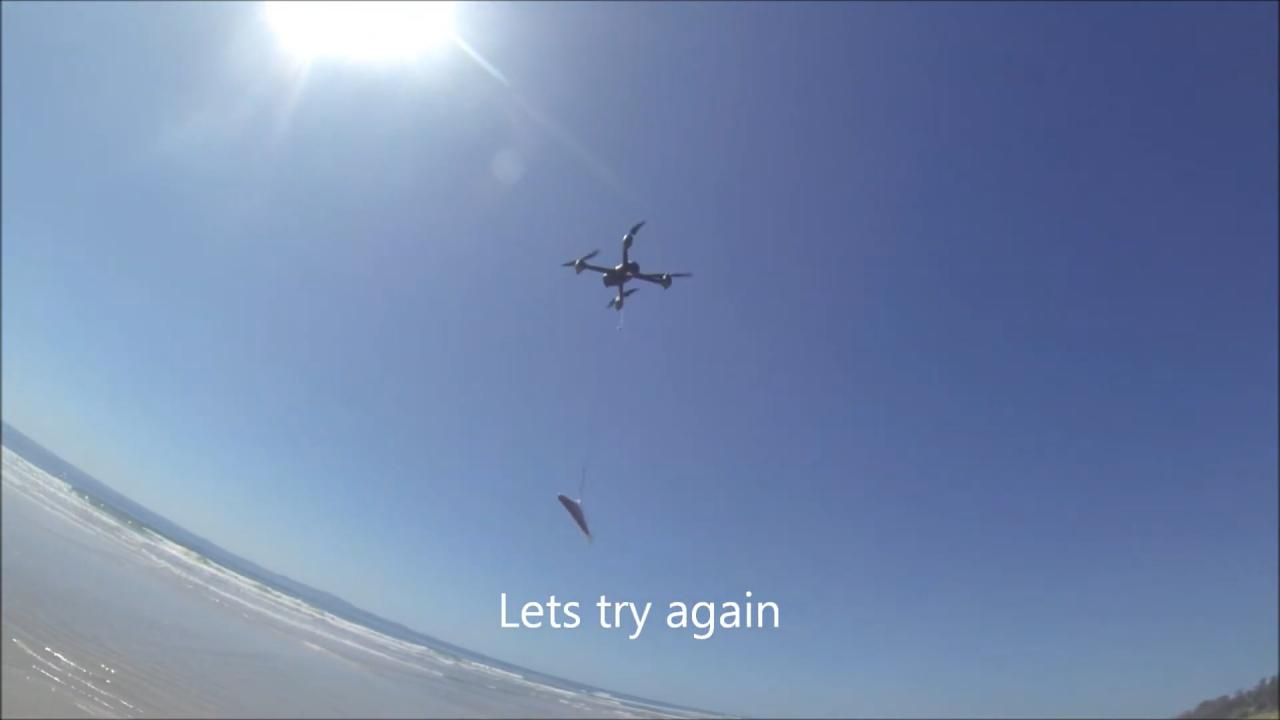Drone: (554, 212, 701, 322)
